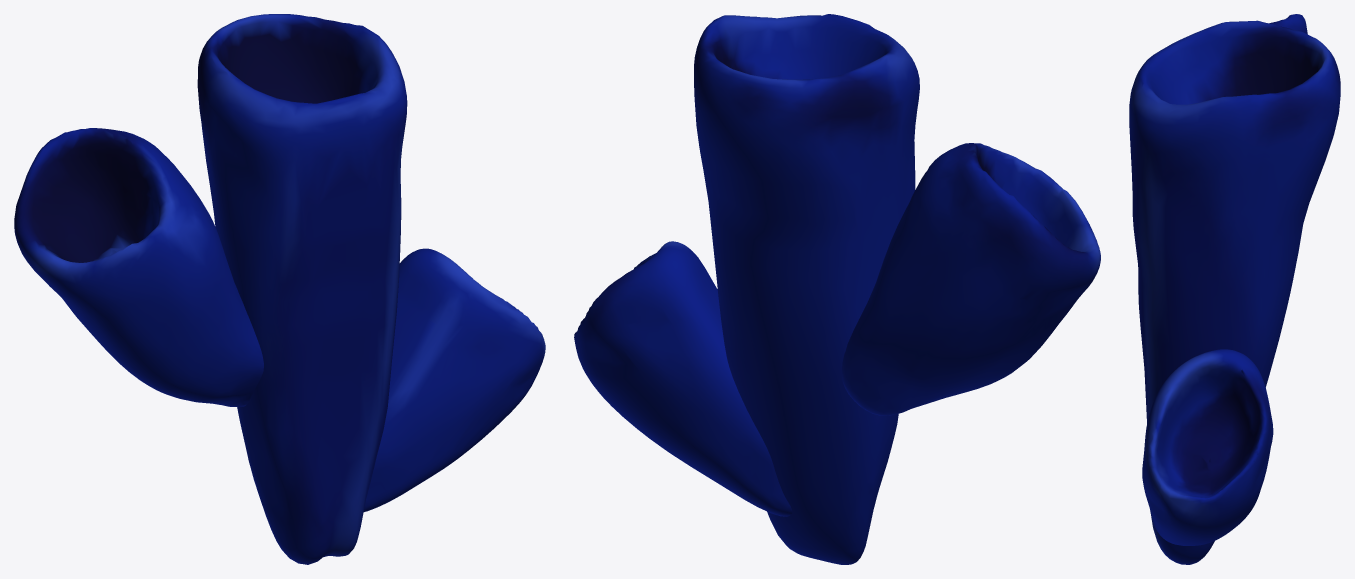
The model's file is Coral_04.fbx.
The picture shows the model from 3 angles, left to right: view 1: azimuth 30°, elevation 25°; view 2: azimuth 150°, elevation 25°; view 3: azimuth 270°, elevation 25°; orthographic projection. The views are drawn at different scales.
Parts seen in each view (by area): view 1: Coral04_LOD0; view 2: Coral04_LOD0; view 3: Coral04_LOD0.
Boxes of the visible parts, x1,y1,x2,y2 form: Coral04_LOD0: (14,14,545,564); Coral04_LOD0: (574,14,1100,564); Coral04_LOD0: (1129,14,1340,564).
Size of what is drawn, in the model's own units: 305 by 295 by 114.
